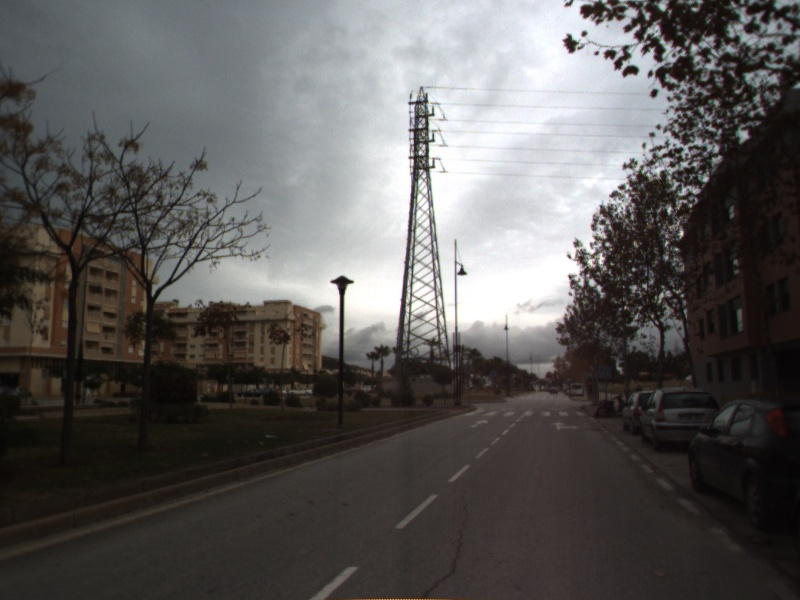STRAIGHT: (467, 417, 491, 430)
STRAIGHT_RIGHT: (549, 419, 583, 432)
